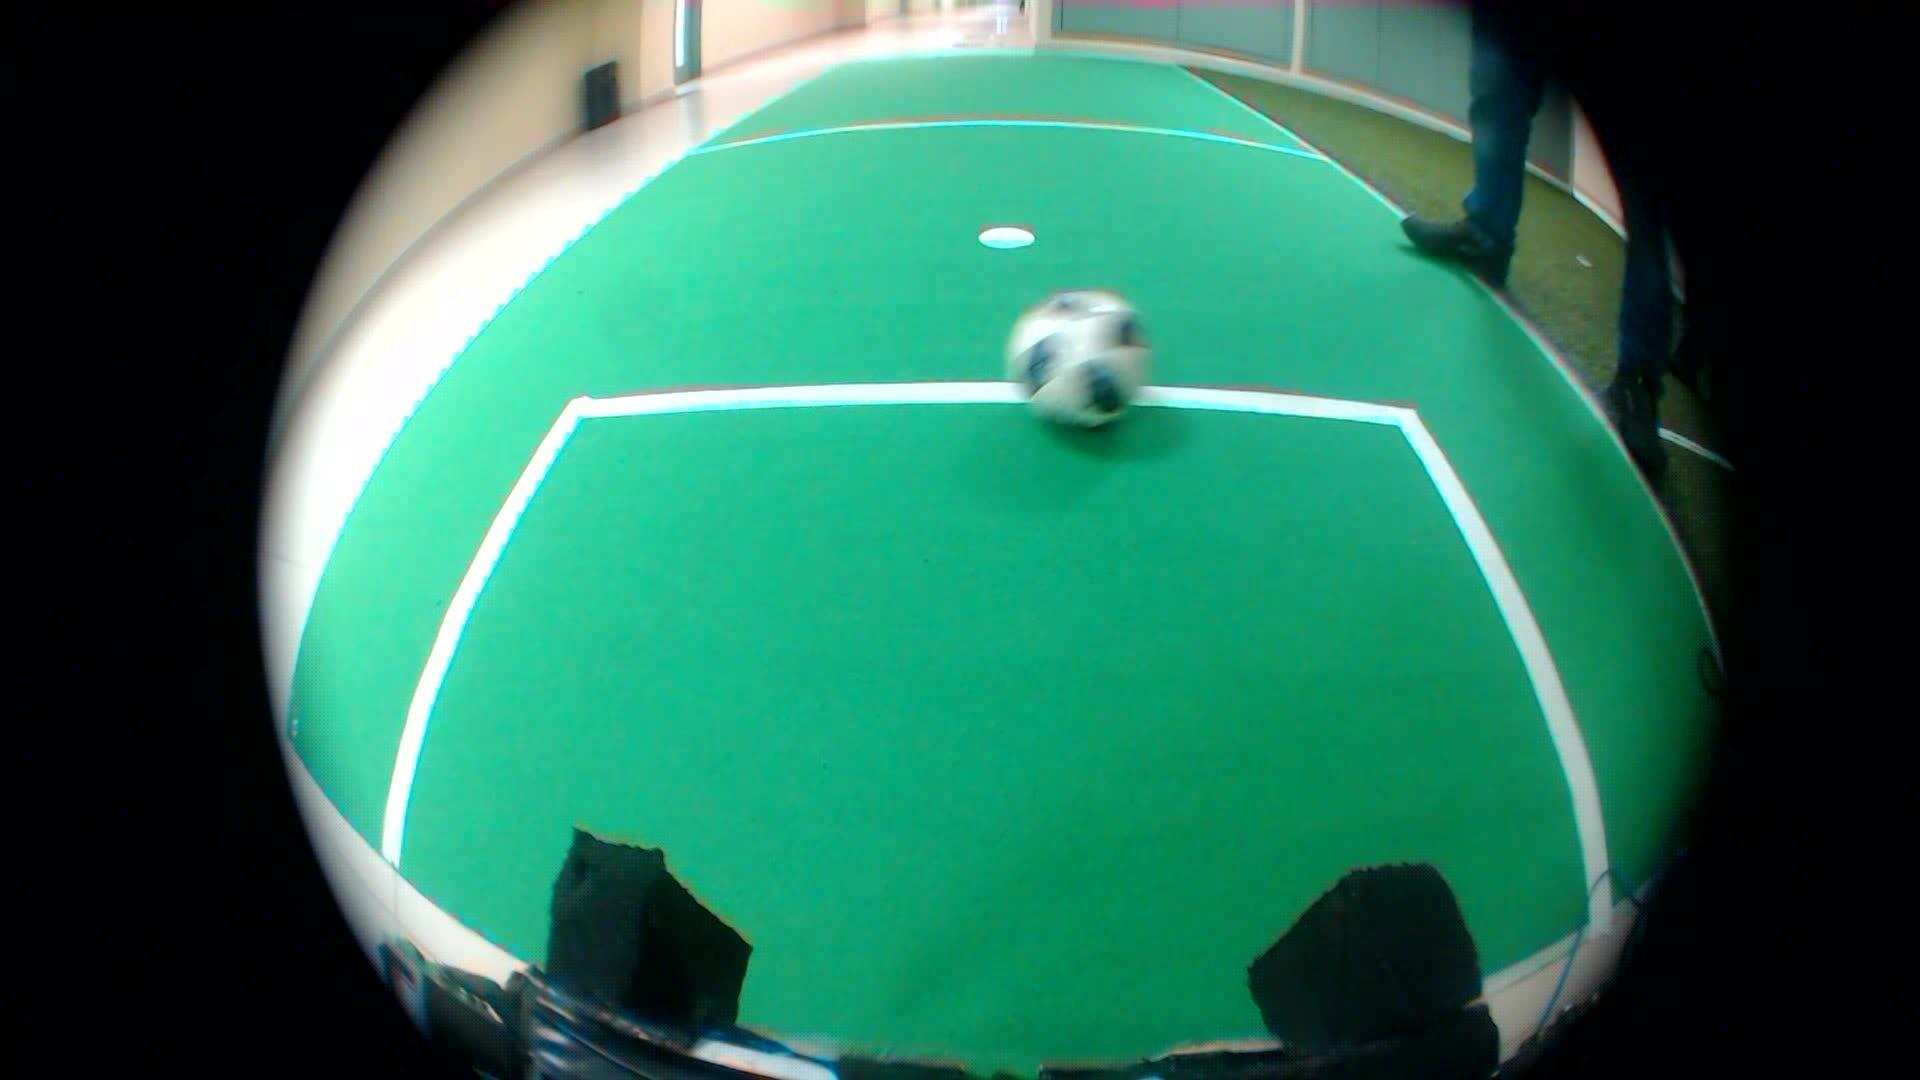ball: (989, 270, 1175, 454)
